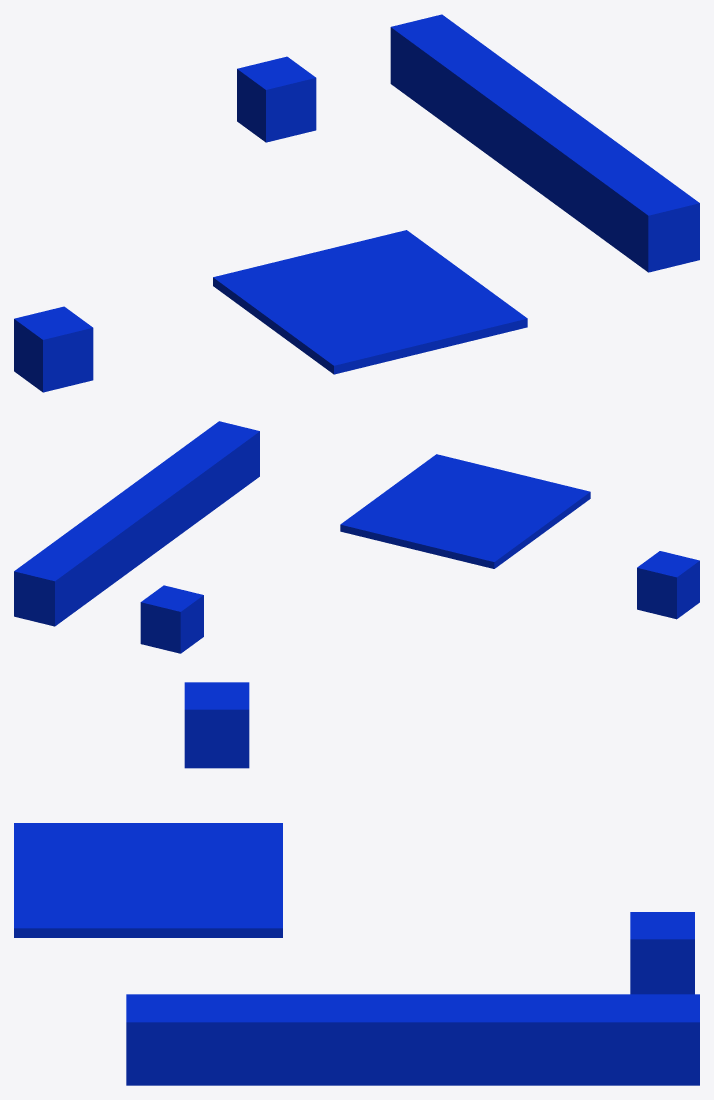
Rendered from furniture_2.glb.
3 views of the same model, one above another, from view 1: azimuth 30°, elevation 25°; view 2: azimuth 150°, elevation 25°; view 3: azimuth 270°, elevation 25° (orthographic). The views are drawn at different scales.
Parts seen in each view (by area): view 1: terrace_f2.glb, salon_f2.glb, room2_f2.glb, room1_f2.glb; view 2: terrace_f2.glb, salon_f2.glb, room2_f2.glb, room1_f2.glb; view 3: terrace_f2.glb, salon_f2.glb, room1_f2.glb, room2_f2.glb.
Part boxes in pixels (box(x1,y1,x2,y2)): terrace_f2.glb: box(390, 14, 699, 272); salon_f2.glb: box(213, 230, 527, 374); room2_f2.glb: box(237, 56, 316, 142); room1_f2.glb: box(14, 306, 93, 392); terrace_f2.glb: box(14, 421, 259, 626); salon_f2.glb: box(340, 454, 590, 568); room2_f2.glb: box(140, 585, 203, 653); room1_f2.glb: box(637, 551, 699, 619); terrace_f2.glb: box(126, 994, 699, 1085); salon_f2.glb: box(14, 823, 282, 937); room1_f2.glb: box(184, 682, 249, 768); room2_f2.glb: box(630, 912, 694, 994).
Size of the model in its own units: 8.78 by 0.7568 by 7.43.
